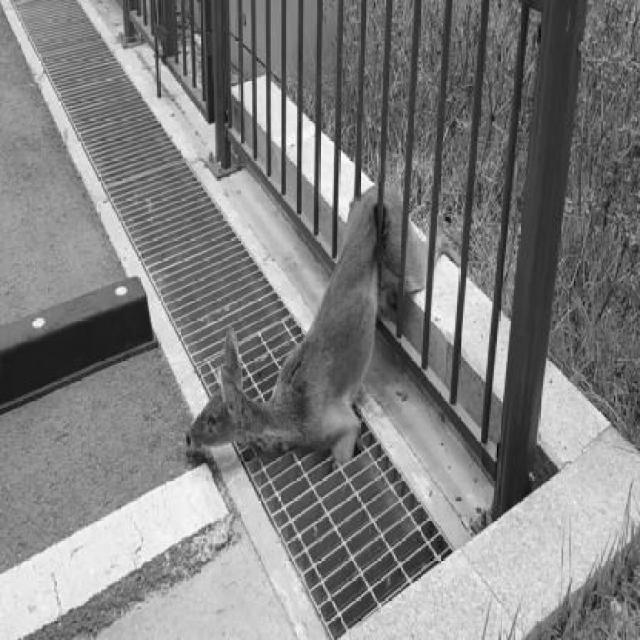Deer: (182, 172, 466, 486)
